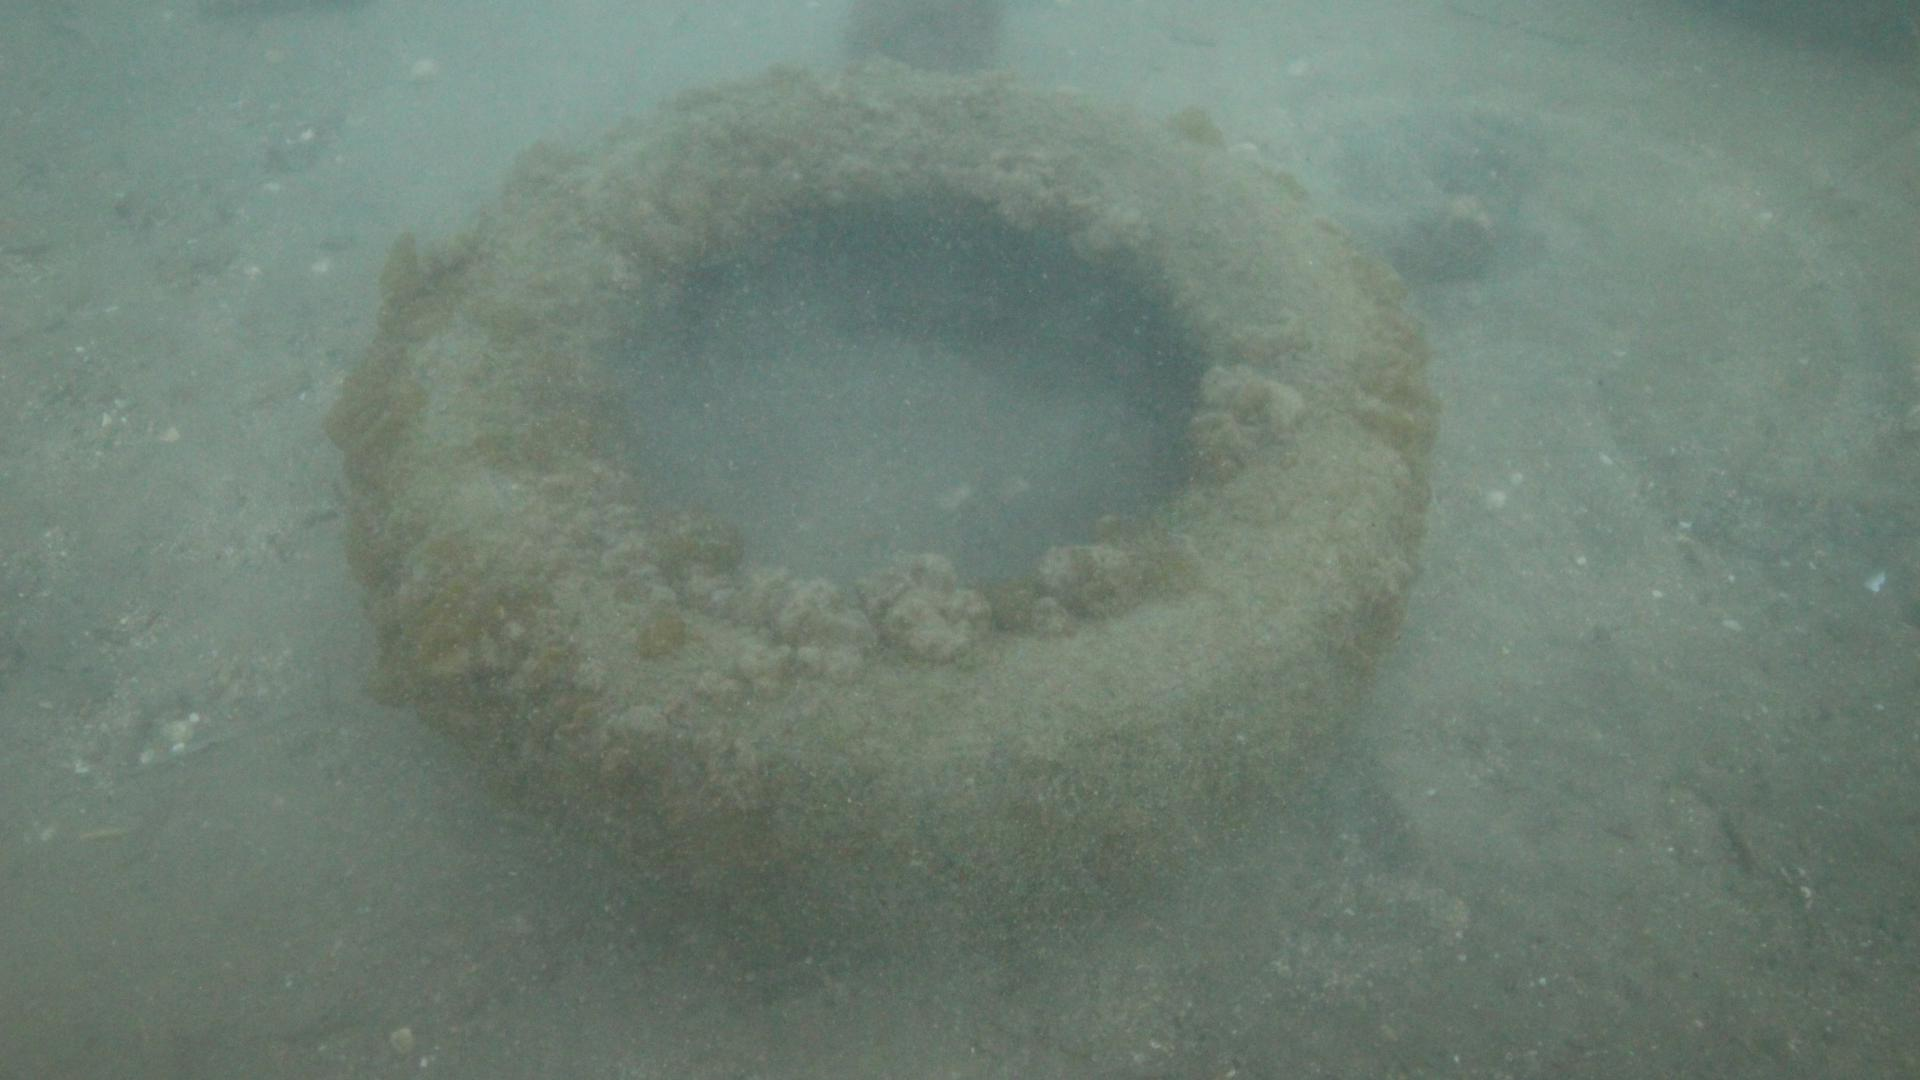tire: (378, 69, 1418, 947)
